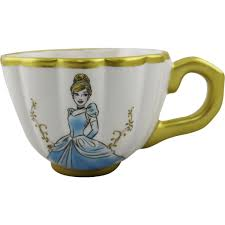cup: (2, 47, 225, 181)
